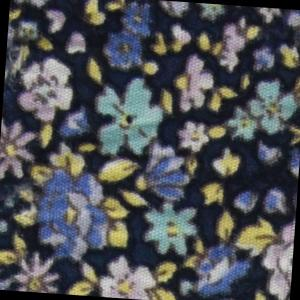Damage: (5, 20, 39, 105), (1, 173, 52, 222), (291, 10, 300, 66)
